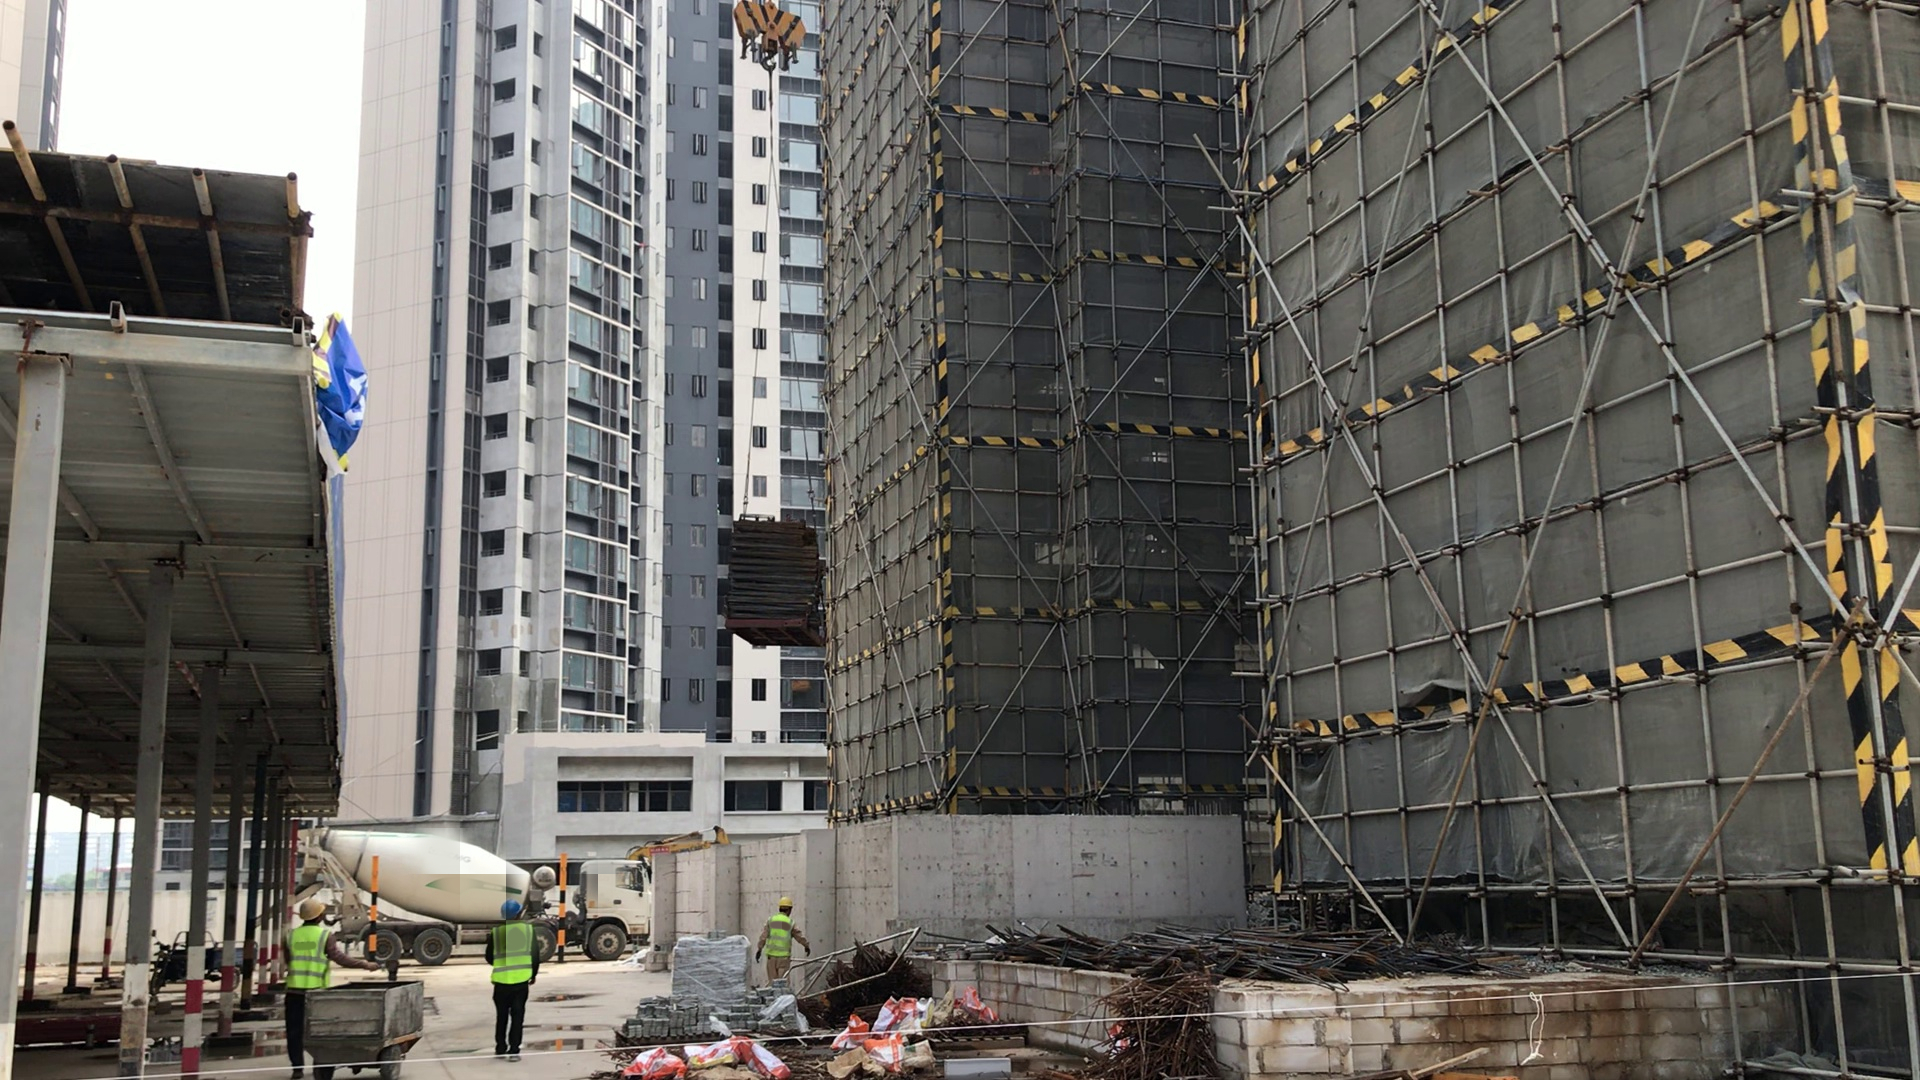helmet: (297, 894, 328, 925), (497, 904, 524, 922), (777, 893, 798, 914)
person: (279, 893, 381, 1080), (481, 900, 548, 1066), (761, 890, 815, 992)
vest: (288, 924, 338, 997), (488, 922, 539, 988), (767, 912, 799, 962)
